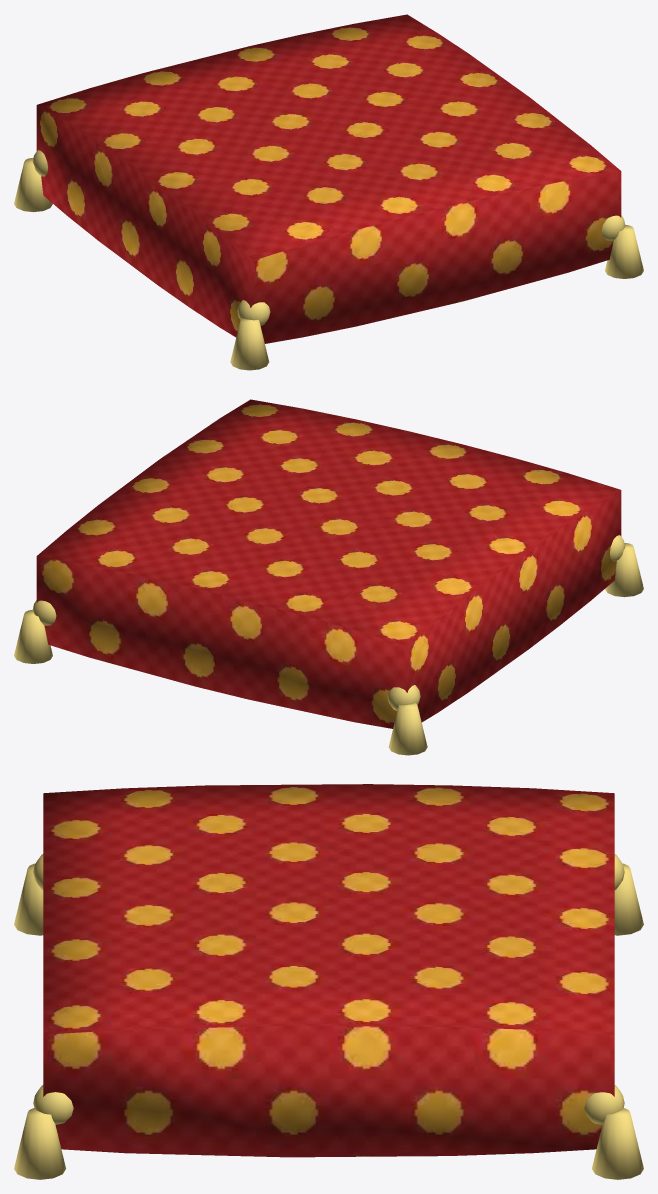
Rendered from silk-cushion.glb.
3 views of the same model, one above another, from view 1: azimuth 30°, elevation 25°; view 2: azimuth 150°, elevation 25°; view 3: azimuth 270°, elevation 25° (orthographic). The views are drawn at different scales.
Visible parts, largest first — view 1: cushion_body, cushion_tassels; view 2: cushion_body, cushion_tassels; view 3: cushion_body, cushion_tassels.
Boxes of the visible parts, x1,y1,x2,y2 form: cushion_body: (36,14,621,343); cushion_tassels: (14,150,643,370); cushion_body: (36,399,621,728); cushion_tassels: (14,535,643,755); cushion_body: (43,784,614,1157); cushion_tassels: (14,854,643,1179).
Bounding box in the file's own units: 1.01 × 0.2645 × 1.01.
Materials: 2 (1 with a texture image).
